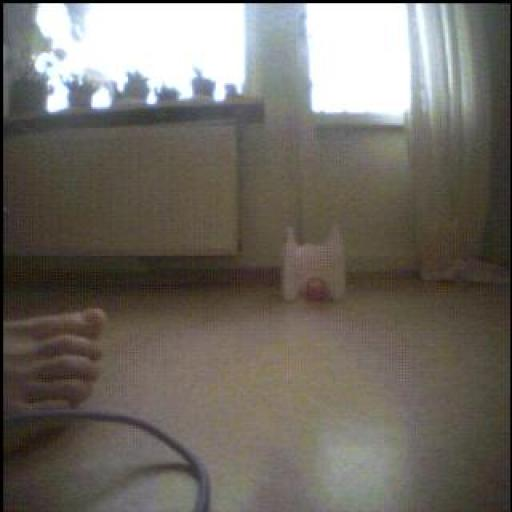Basket: (305, 276, 329, 303)
